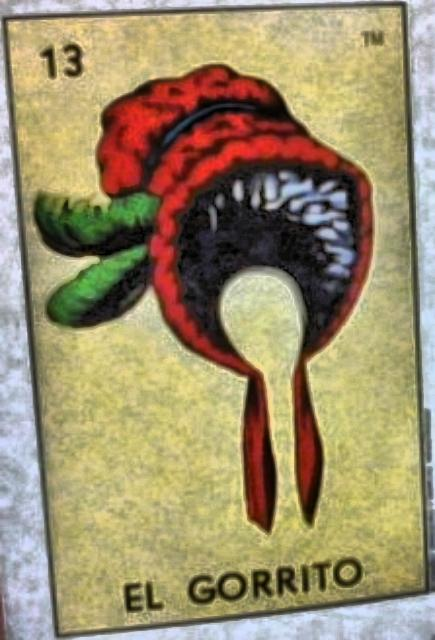El Gorrito: (5, 4, 429, 633)
